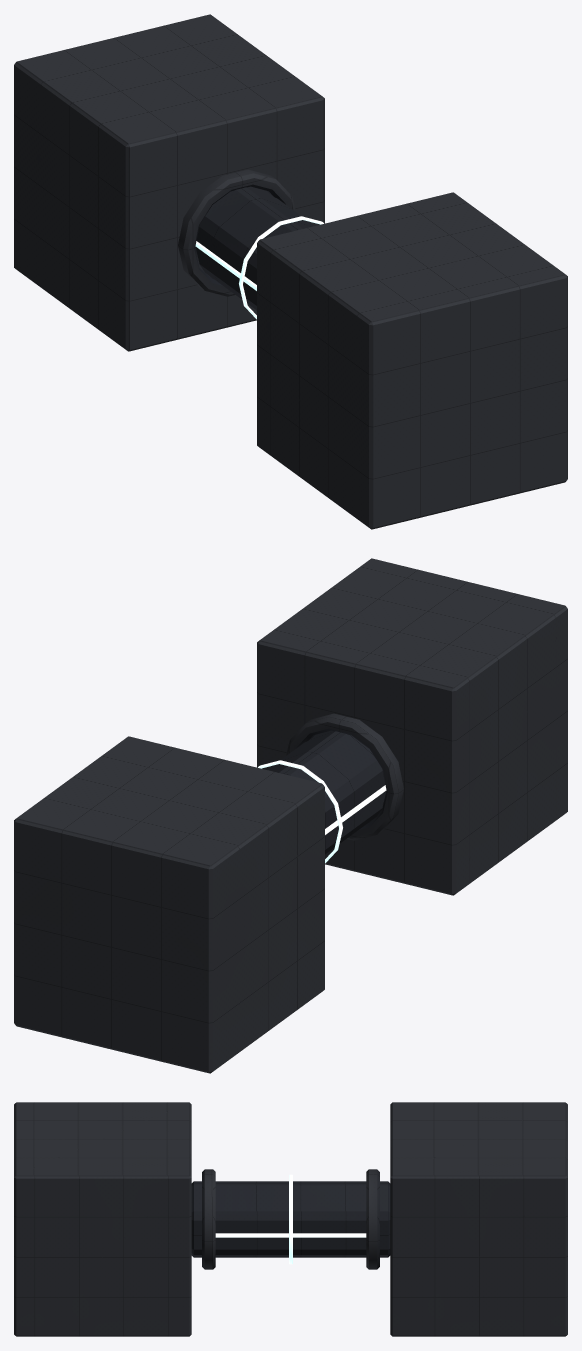
Rendered from R4C_STRUT_STANDARD_LOD1.glb.
3 views of the same model, one above another, from view 1: azimuth 30°, elevation 25°; view 2: azimuth 150°, elevation 25°; view 3: azimuth 270°, elevation 25° (orthographic). The views are drawn at different scales.
Visible parts, largest first — view 1: R4C_STRUT_STANDARD_LOD1; view 2: R4C_STRUT_STANDARD_LOD1; view 3: R4C_STRUT_STANDARD_LOD1.
Boxes of the visible parts, box(x1,y1,x2,y2) form: R4C_STRUT_STANDARD_LOD1: box(14, 14, 567, 529); R4C_STRUT_STANDARD_LOD1: box(14, 558, 567, 1073); R4C_STRUT_STANDARD_LOD1: box(14, 1102, 567, 1336).
Bounding box in the file's own units: 0.52 × 0.52 × 1.62.
3 materials, 2 textured.
